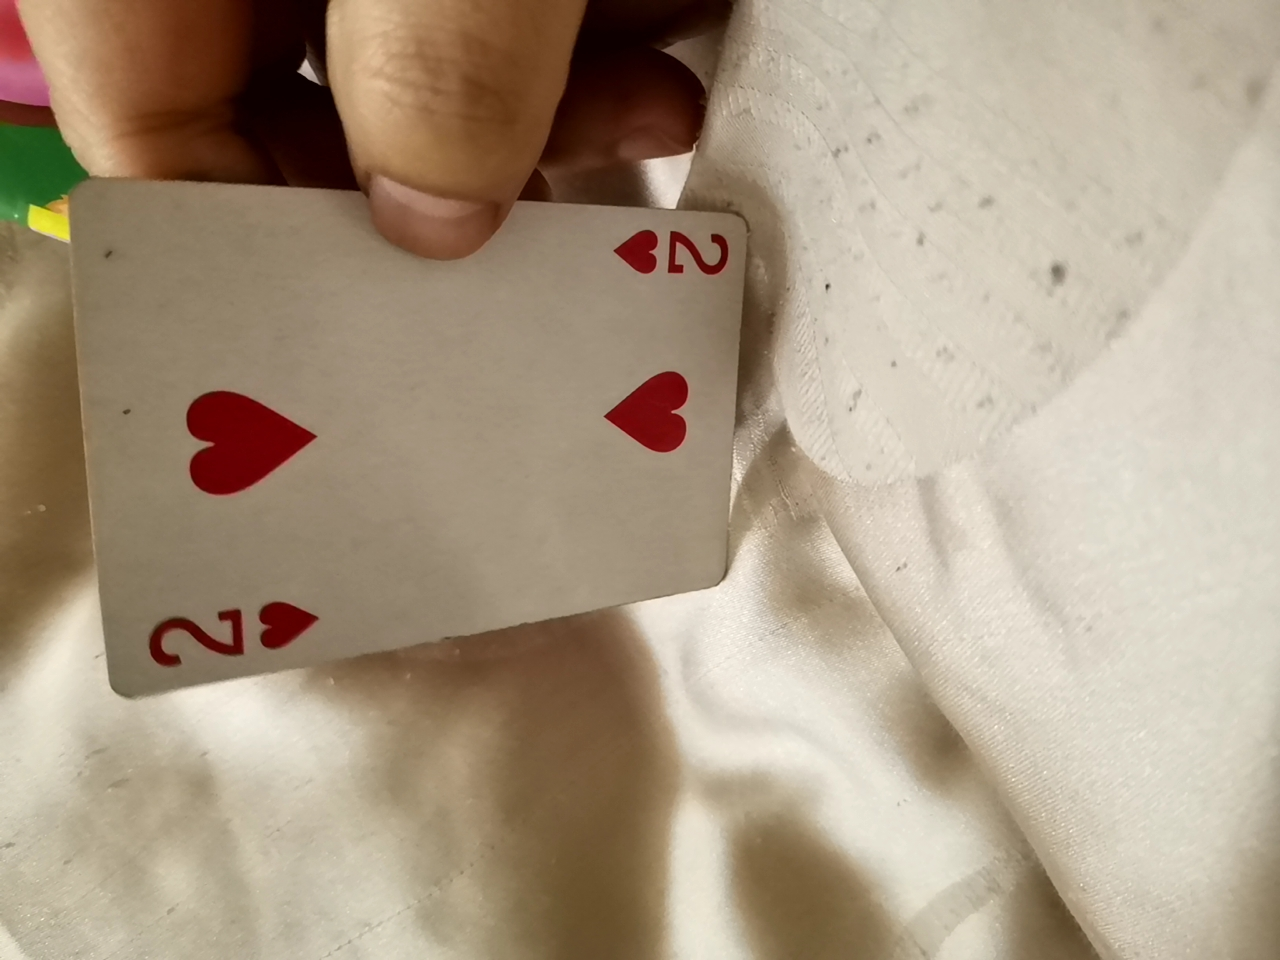hx 2: (65, 159, 747, 712)
